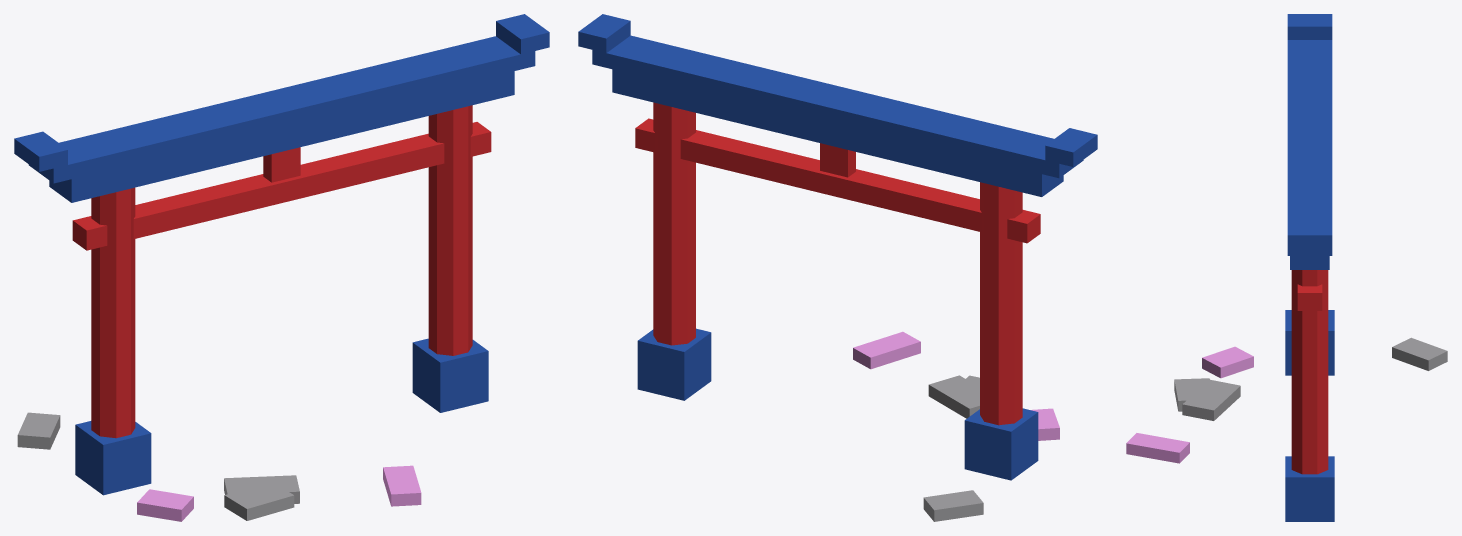
The model's file is Torii.fbx.
The picture shows the model from 3 angles, left to right: view 1: azimuth 30°, elevation 25°; view 2: azimuth 150°, elevation 25°; view 3: azimuth 270°, elevation 25°; orthographic projection. The views are drawn at different scales.
Visible parts, largest first — view 1: ToriiBlue, ToriiRed, StoneGrey, Sakura.001; view 2: ToriiBlue, ToriiRed, StoneGrey, Sakura.001; view 3: ToriiBlue, ToriiRed, StoneGrey, Sakura.001.
Boxes of the visible parts, x1,y1,x2,y2 form: ToriiBlue: (14,14,549,495); ToriiRed: (72,105,491,438); StoneGrey: (17,412,299,520); Sakura.001: (137,465,421,521); ToriiBlue: (578,14,1097,480); ToriiRed: (635,102,1040,425); StoneGrey: (923,375,983,521); Sakura.001: (853,331,1059,440); ToriiBlue: (1285,14,1334,521); ToriiRed: (1291,270,1328,474); StoneGrey: (1174,337,1447,420); Sakura.001: (1126,346,1253,463).
Size of the model in its own units: 10.6 by 7 by 6.5.
